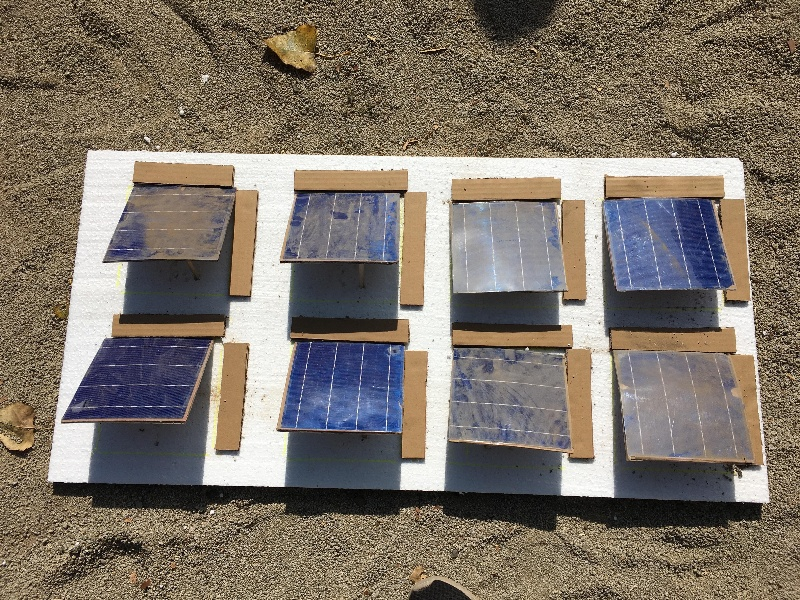clean: (596, 196, 740, 296), (276, 337, 404, 438)
dirty: (608, 348, 758, 464), (444, 345, 580, 450), (443, 200, 575, 294), (101, 180, 234, 261), (280, 191, 406, 263)
semi: (60, 332, 217, 430)
